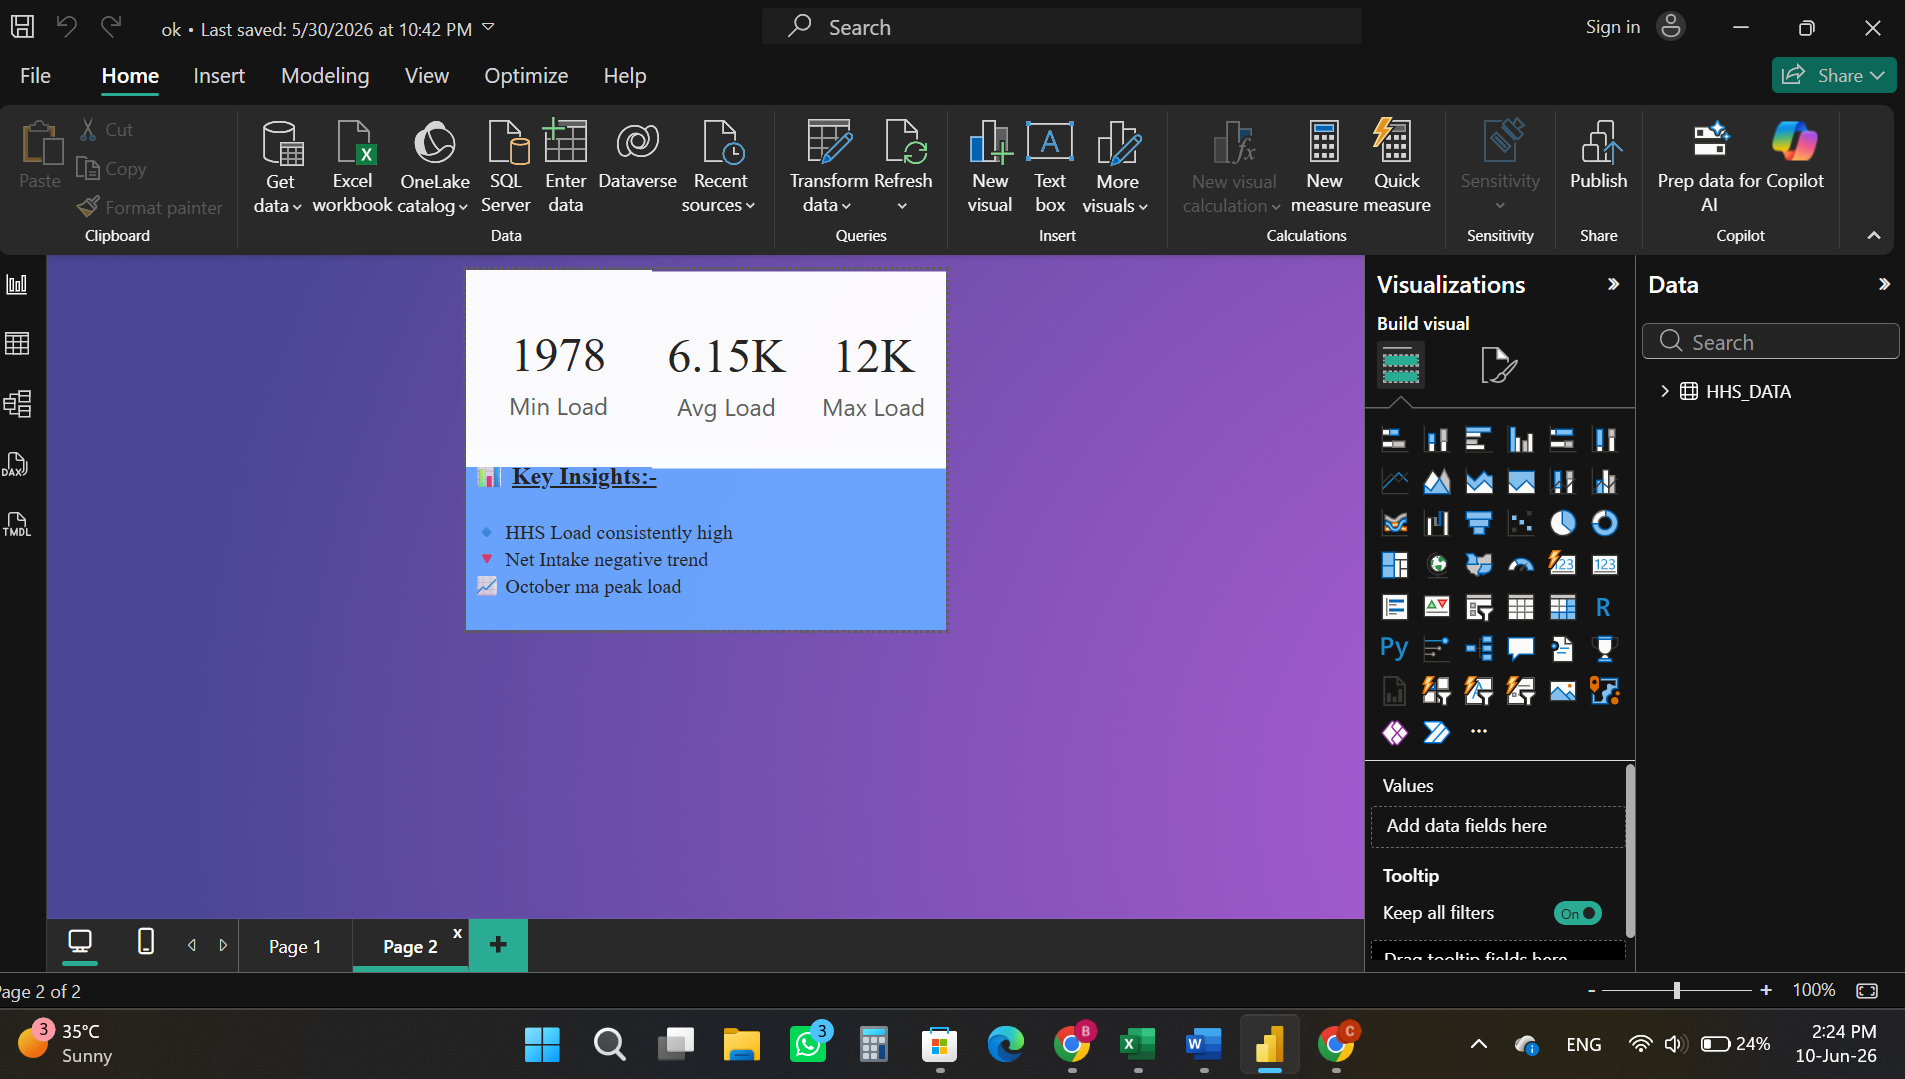

What the dashboard file says about the page in this screenshot:
{"tool":"powerbi","page":{"name":"Page 2","canvas":[320,240],"ordinal":1},"visuals":[{"type":"textbox","box":[0,120,400,120],"z":0},{"type":"card","fields":{"Values":["HHS_DATA.Avg Load"]},"box":[124,1,100,131],"z":1000},{"type":"card","fields":{"Values":["HHS_DATA.Min Load"]},"box":[0,0,124,131],"z":2000},{"type":"card","fields":{"Values":["HHS_DATA.Max Load"]},"box":[224,1,96,131],"z":3000}]}

Visuals, with their boxes on the page's 320x240 design canvas (x1, y1, x2, y2). These are canvas units, not pixel positions in the 1905x1079 screenshot, which may show the page scaled, cropped or inside an application window:
textbox: Rect(0, 120, 400, 240)
card - HHS_DATA.Avg Load: Rect(124, 1, 224, 132)
card - HHS_DATA.Min Load: Rect(0, 0, 124, 131)
card - HHS_DATA.Max Load: Rect(224, 1, 320, 132)
